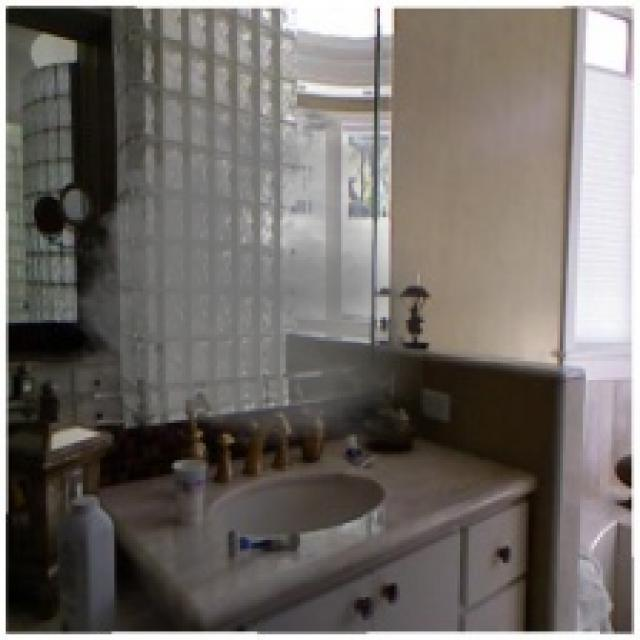Smoke: (54, 89, 423, 448)
